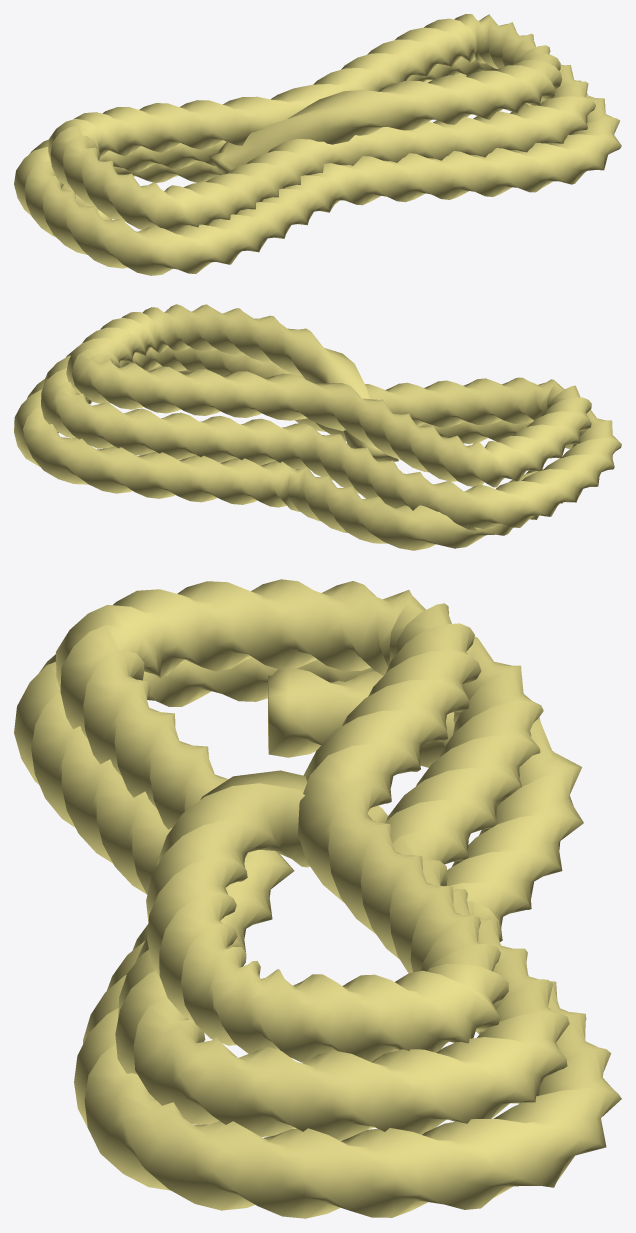
The model's file is Corda.fbx.
3 renders of one model, top to bottom at view 1: azimuth 30°, elevation 25°; view 2: azimuth 150°, elevation 25°; view 3: azimuth 270°, elevation 25°, orthographic. The views are drawn at different scales.
Visible parts, largest first — view 1: Circle; view 2: Circle; view 3: Circle.
Part boxes in pixels (x1,y1,x2,y2): Circle: [14, 14, 621, 275]; Circle: [14, 304, 621, 550]; Circle: [14, 579, 621, 1218].
Size of the model in its own units: 654 by 140 by 334.
